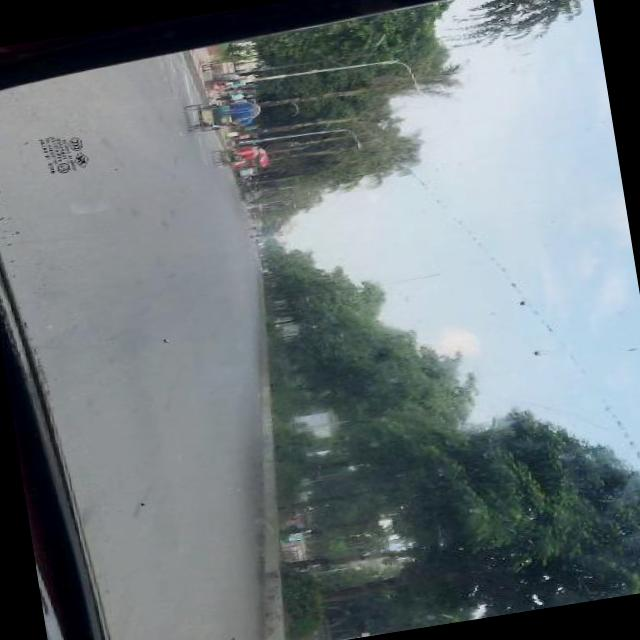motorcycle: (182, 92, 264, 134), (208, 142, 260, 168)
